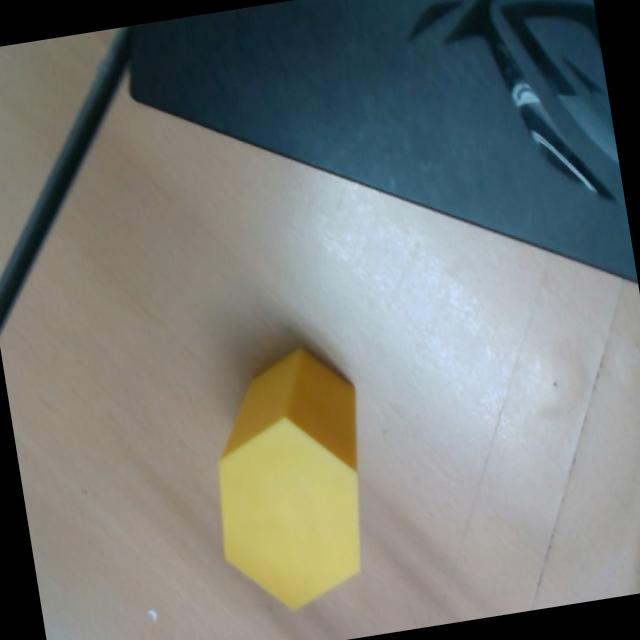hexagon: (219, 347, 359, 609)
